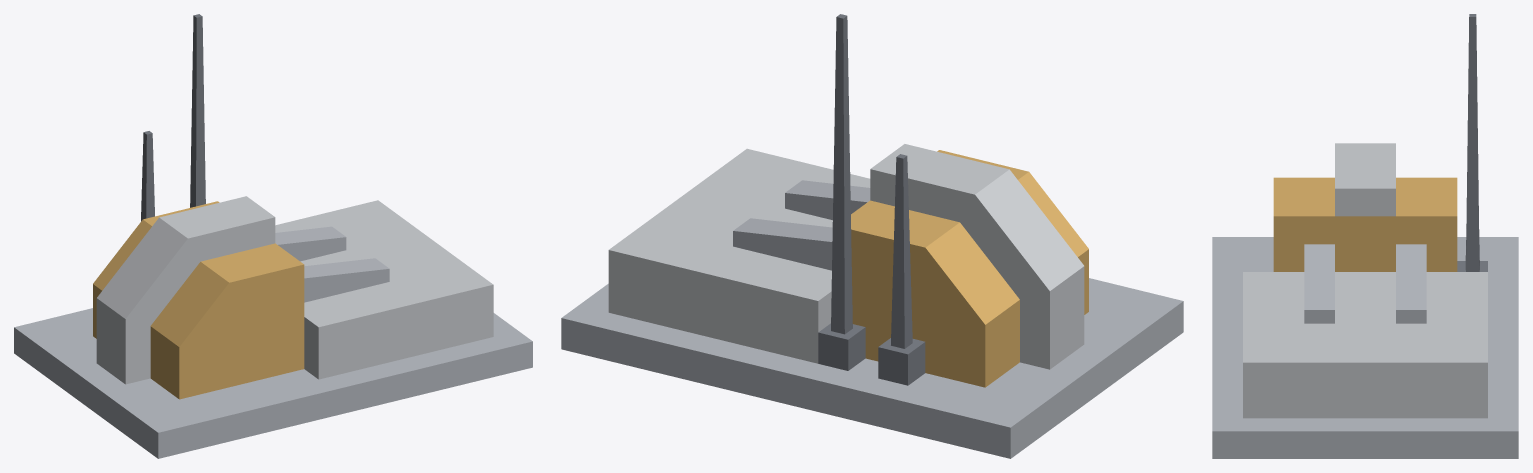
File: machine_wireless.glb
3 renders of one model, left to right at view 1: azimuth 30°, elevation 25°; view 2: azimuth 150°, elevation 25°; view 3: azimuth 270°, elevation 25°, orthographic. The views are drawn at different scales.
Parts seen in each view (by area): view 1: machine_wireless; view 2: machine_wireless; view 3: machine_wireless.
Boxes of the visible parts, bbox=[...] form: machine_wireless: bbox=[14, 14, 532, 458]; machine_wireless: bbox=[561, 14, 1183, 458]; machine_wireless: bbox=[1212, 14, 1518, 458].
Bounding box in the file's own units: 0.75 × 0.6 × 0.5.
